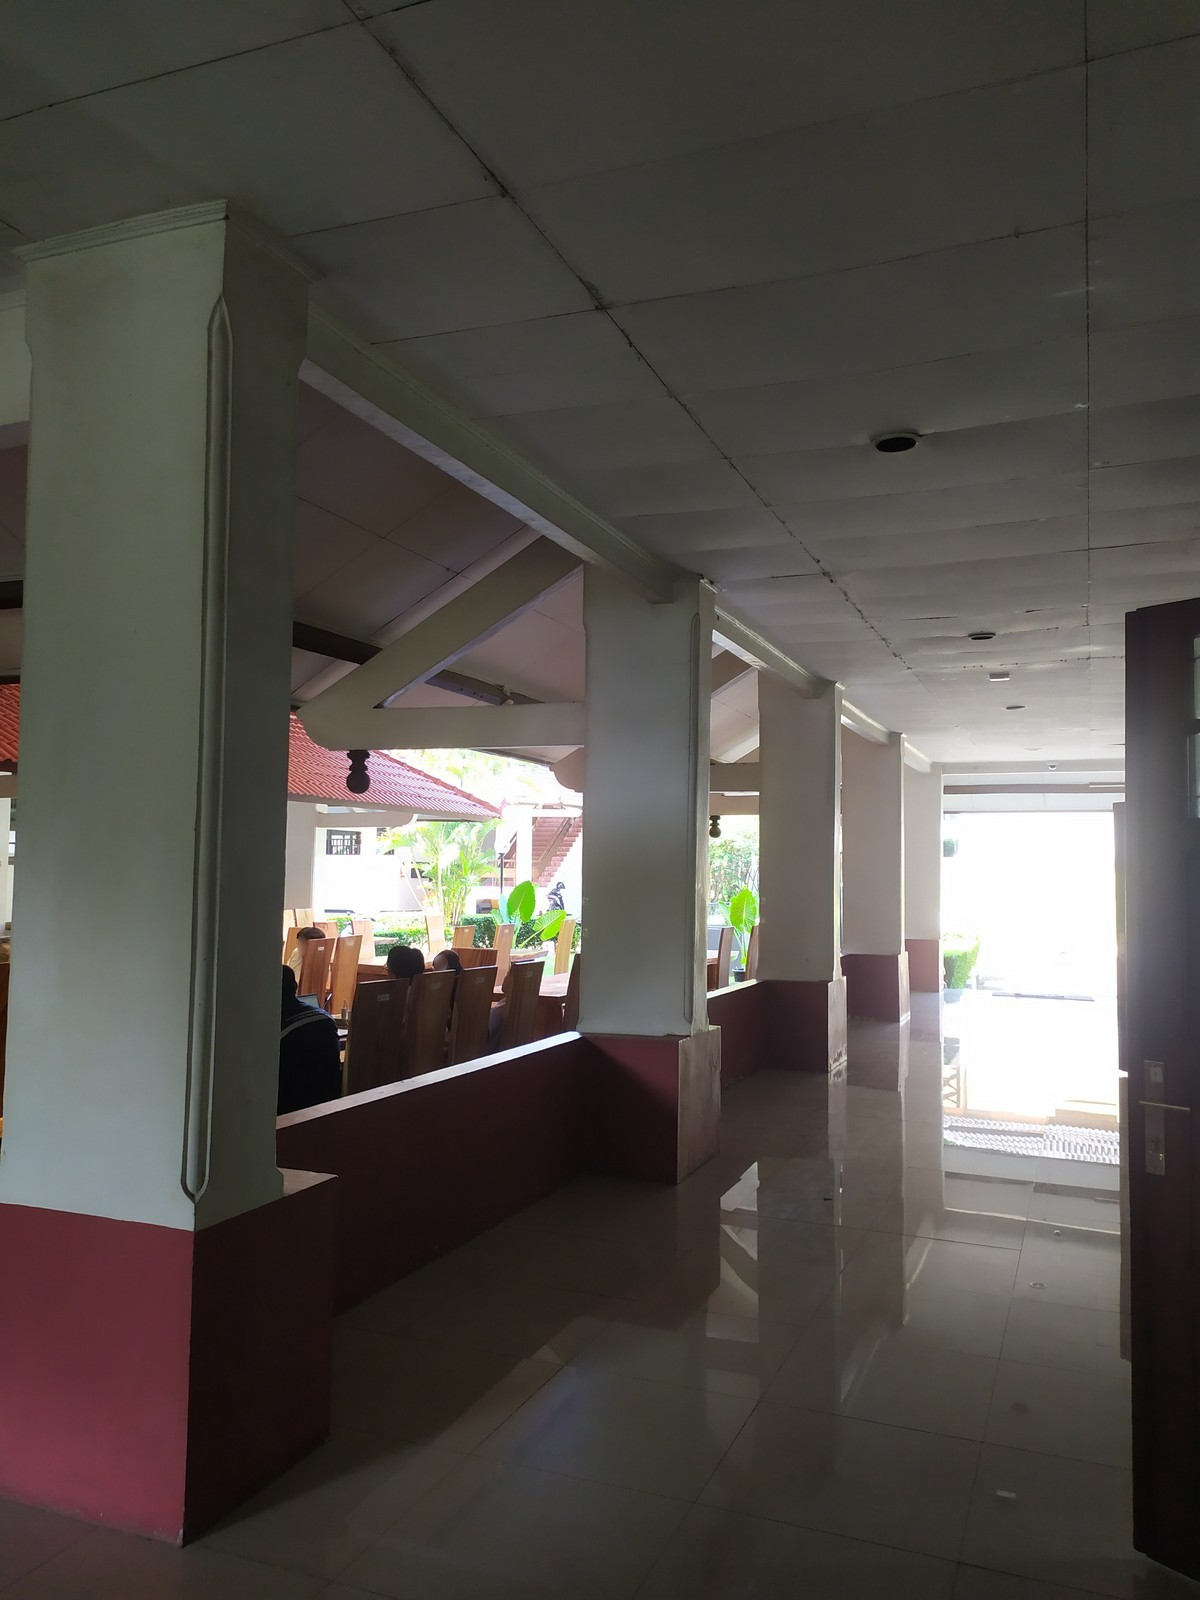concrete beam: (377, 693, 597, 762)
concrete column: (18, 184, 296, 1233), (567, 546, 720, 1044), (751, 666, 848, 979)
